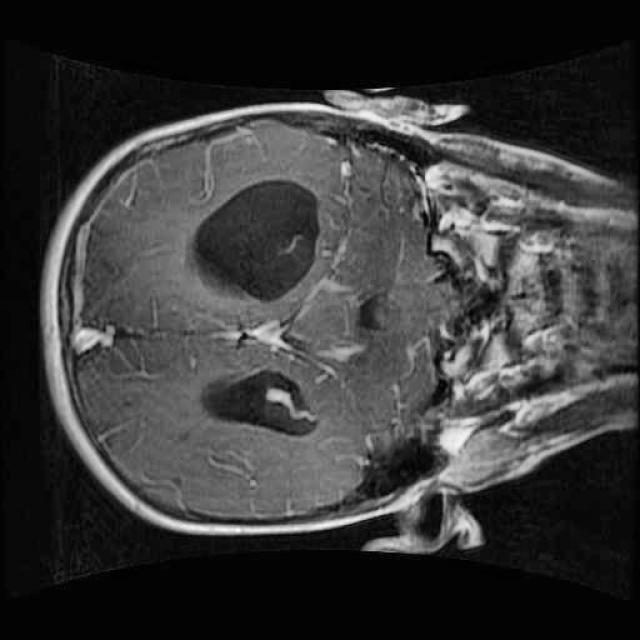Tumor: (270, 262, 394, 382)
